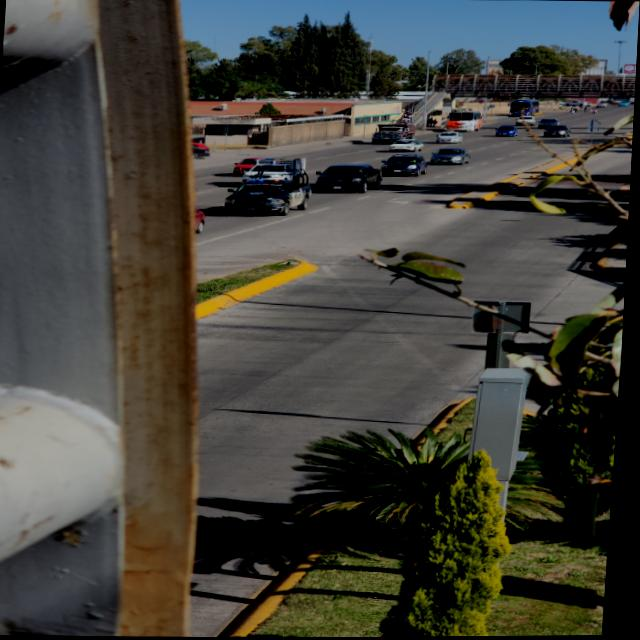Auto: (380, 153, 428, 178), (430, 149, 471, 166), (536, 120, 571, 139), (192, 142, 213, 159), (497, 126, 520, 138)
Autobus: (510, 98, 539, 117)
